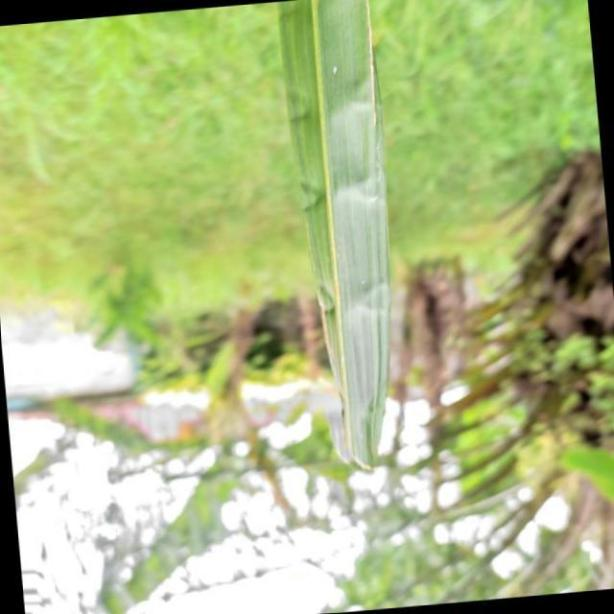Boron: (272, 0, 390, 470)
